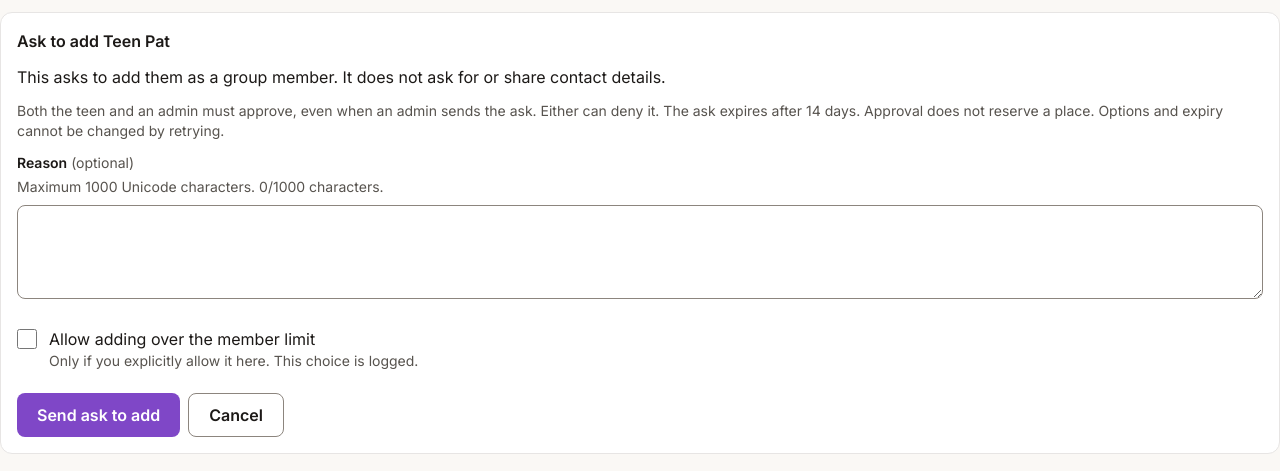
Scenario: sends explicit true group/date asks, not direct contact, without implicit override
The image size is (1280, 471).
In the text box labelled "Reason (optional)": point(640, 252) [17,205,1263,299], type "Welcome"
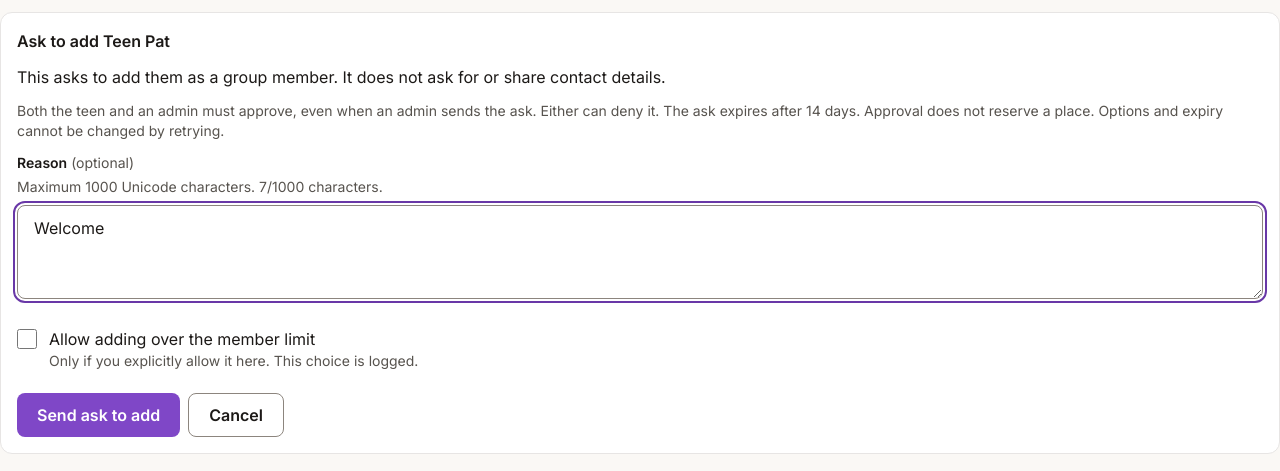
Click the button "Send ask to add": point(99, 415) [17,393,180,437]
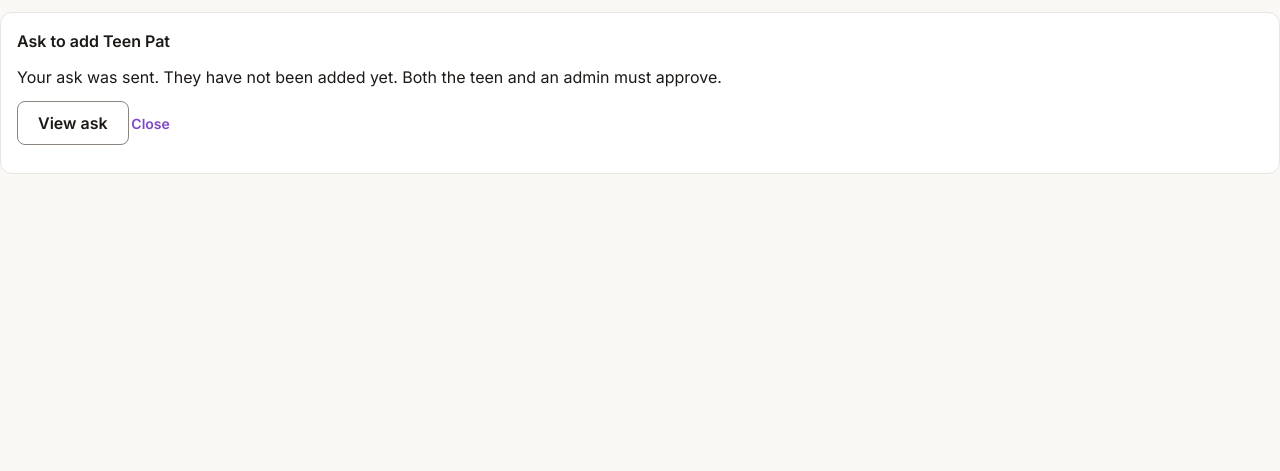
Now the message shows "They have not been added yet", box [17,67,402,87]
